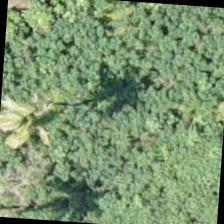Kelapa_Sawit: (0, 89, 74, 185)
